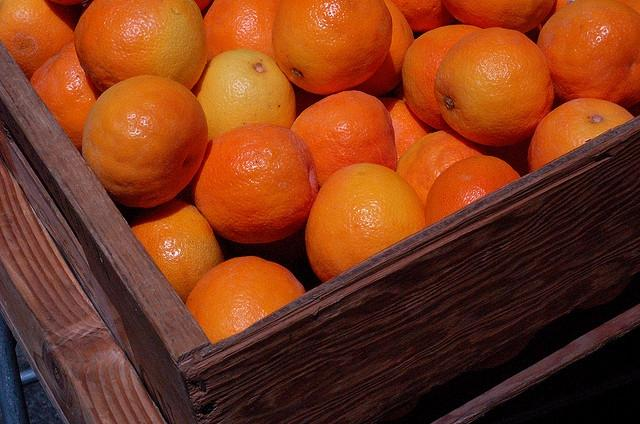orange: (82, 75, 208, 208), (192, 123, 318, 244), (435, 26, 555, 146), (306, 163, 426, 282), (74, 0, 208, 92), (119, 197, 225, 305), (272, 0, 392, 95), (290, 90, 398, 190), (536, 3, 638, 107), (186, 256, 306, 344), (188, 50, 296, 140), (30, 41, 104, 157), (402, 24, 482, 130), (396, 130, 500, 208), (528, 98, 634, 174), (341, 0, 415, 97), (0, 0, 84, 81), (425, 155, 520, 226), (203, 1, 282, 62), (375, 97, 436, 163), (441, 0, 556, 34), (390, 1, 456, 32), (538, 0, 568, 31), (193, 0, 212, 12), (51, 0, 86, 5)
